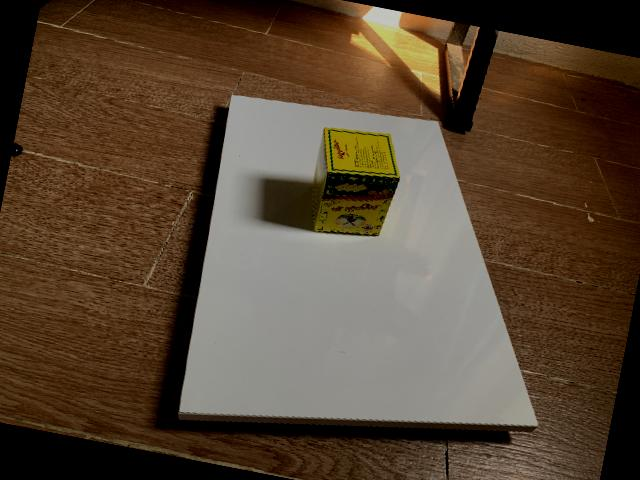luong_kho: (307, 128, 399, 238)
